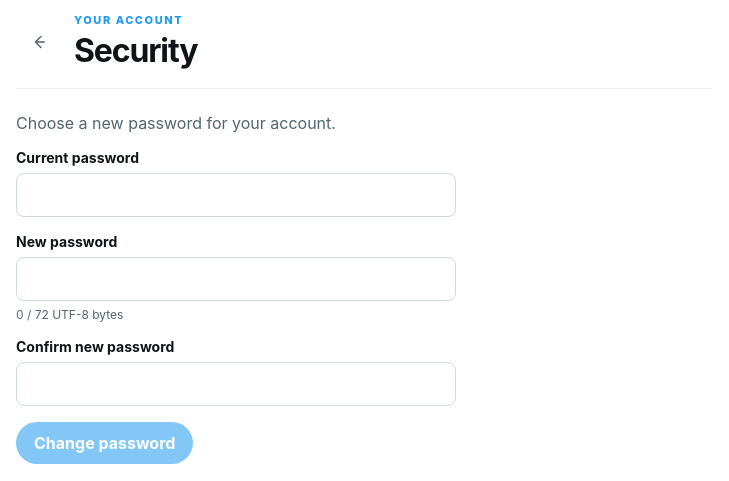
Test: AccountSecurityView › does not reset the form when only the access token rotates
The image size is (729, 481).
Type "current" into the password field labelled "Current password" at x=236, y=195, box 16,173 -> 456,217
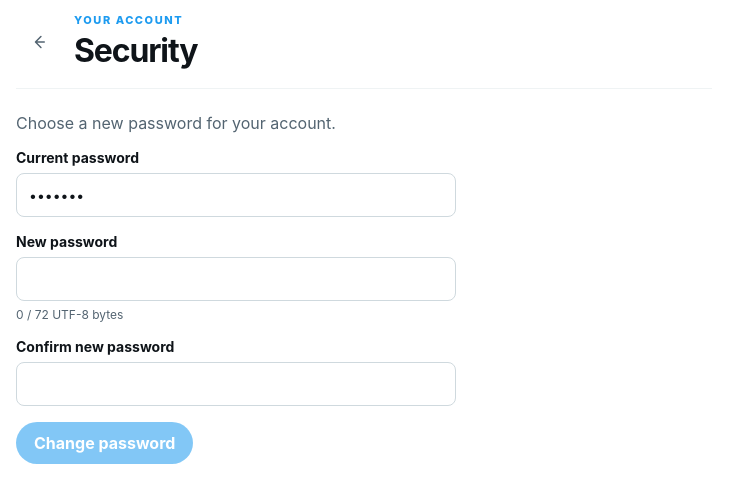
Type "new-password" into the password field labelled "New password" at x=236, y=279, box 16,257 -> 456,301
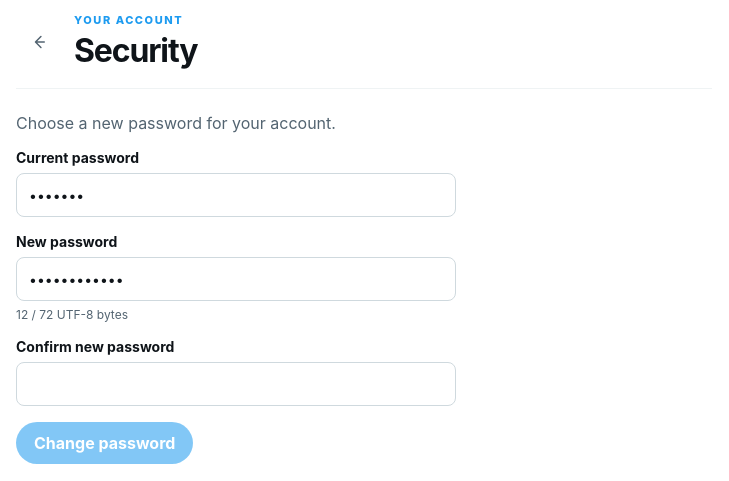
Type "new-password" into the password field labelled "Confirm new password" at x=236, y=384, box 16,362 -> 456,406
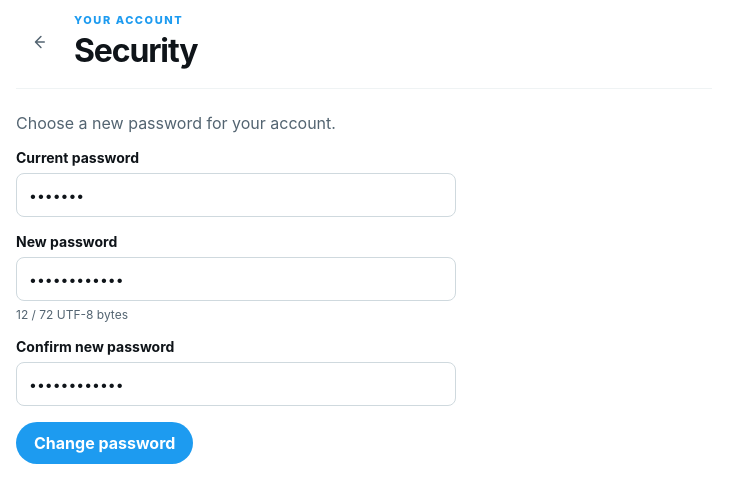
expect the submit button is enabled: met, box 16,422 -> 193,464
